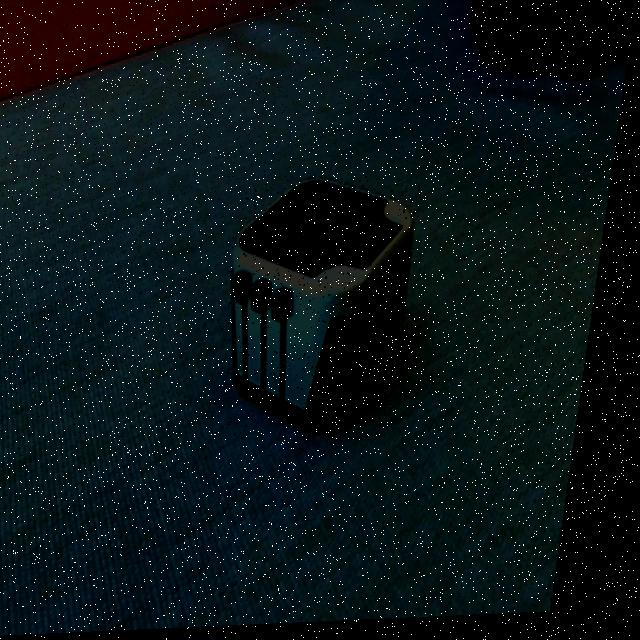adapter: (218, 175, 431, 440)
